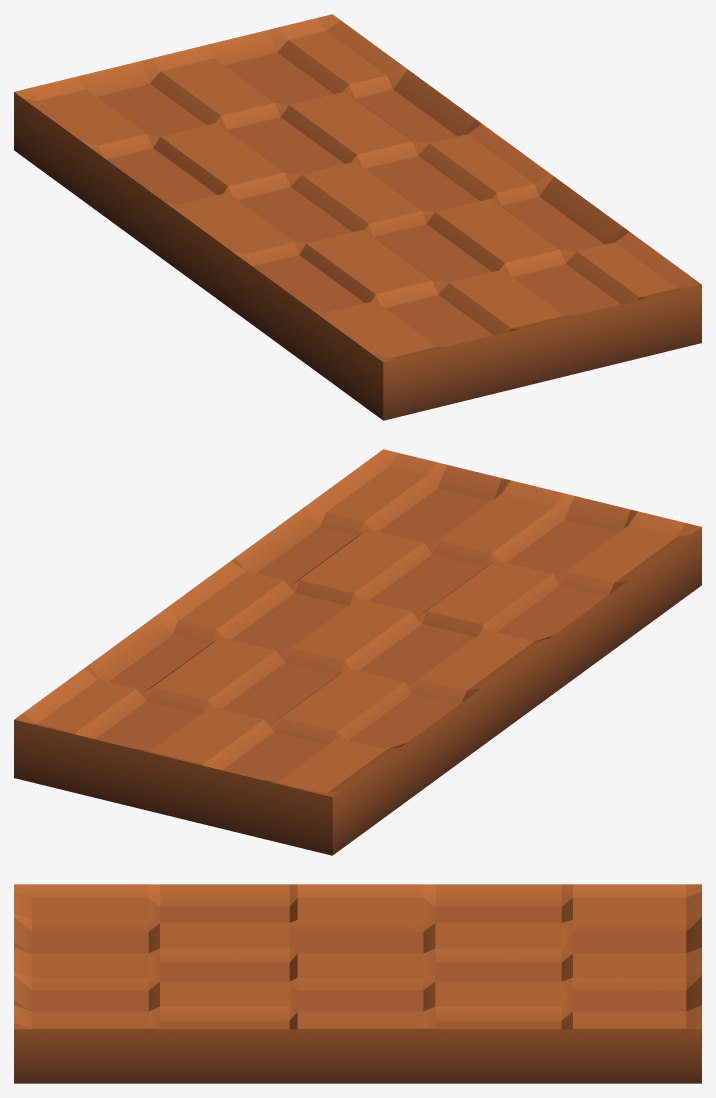
The model's file is Chocolate Bar.glb.
The picture shows the model from 3 angles, top to bottom: view 1: azimuth 30°, elevation 25°; view 2: azimuth 150°, elevation 25°; view 3: azimuth 270°, elevation 25°; orthographic projection. The views are drawn at different scales.
Parts seen in each view (by area): view 1: Cube; view 2: Cube; view 3: Cube.
Boxes of the visible parts, x1,y1,x2,y2 form: Cube: (14,14,701,420); Cube: (14,449,701,855); Cube: (14,884,701,1083).
Size of the model in its own units: 0.9955 by 0.1744 by 2.
1 material, 1 textured.
